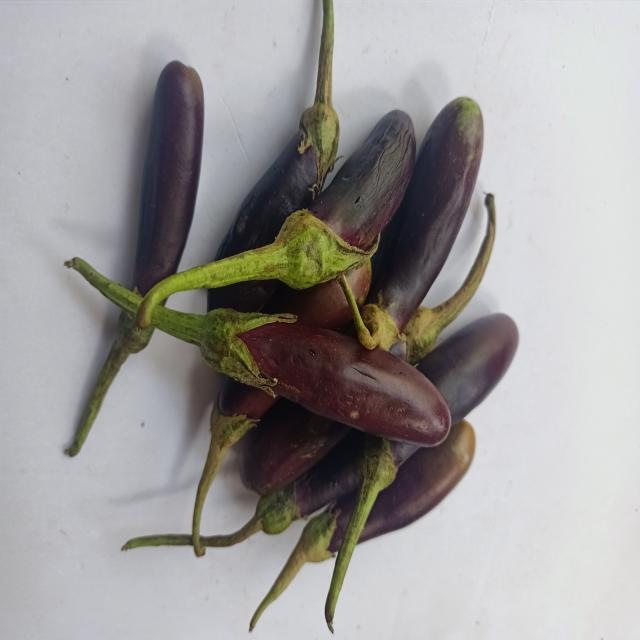Brinjal: (215, 0, 340, 260), (131, 60, 203, 300), (64, 310, 154, 456), (207, 280, 276, 312)
